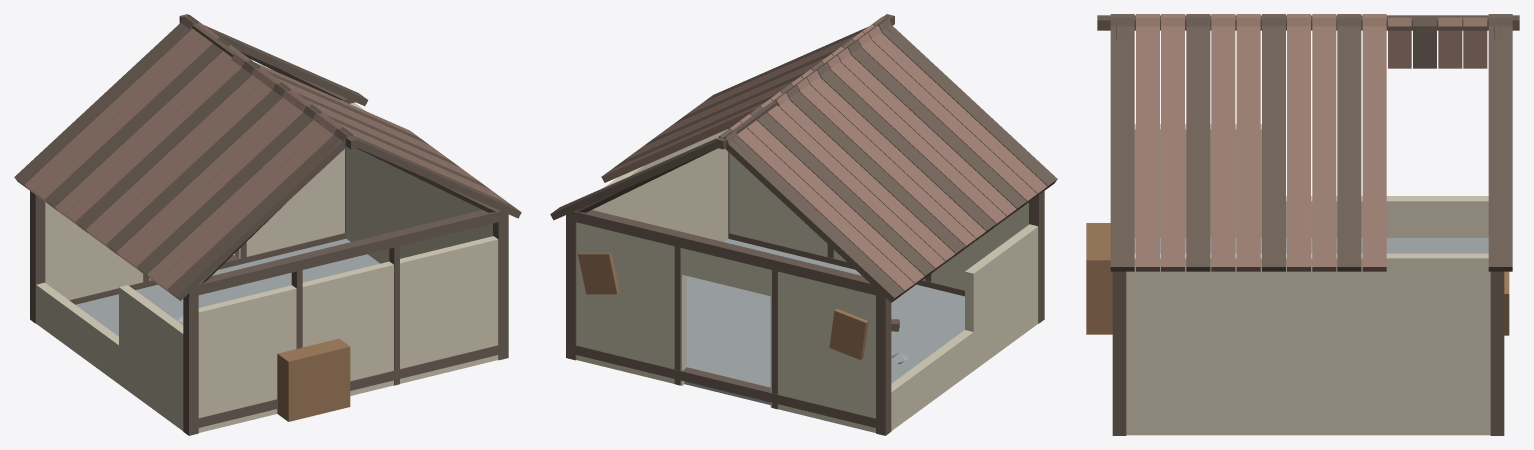
Rendered from house_family_halfcollapsed.glb.
3 renders of one model, left to right at view 1: azimuth 30°, elevation 25°; view 2: azimuth 150°, elevation 25°; view 3: azimuth 270°, elevation 25°, orthographic. The views are drawn at different scales.
Parts seen in each view (by area): view 1: house_family_halfcollapsed; view 2: house_family_halfcollapsed; view 3: house_family_halfcollapsed.
Boxes of the visible parts, <box> form: house_family_halfcollapsed: <box>14,14,521,435</box>; house_family_halfcollapsed: <box>550,14,1057,435</box>; house_family_halfcollapsed: <box>1086,14,1519,435</box>.
Size of the model in its own units: 7.79 by 5.68 by 6.88.
